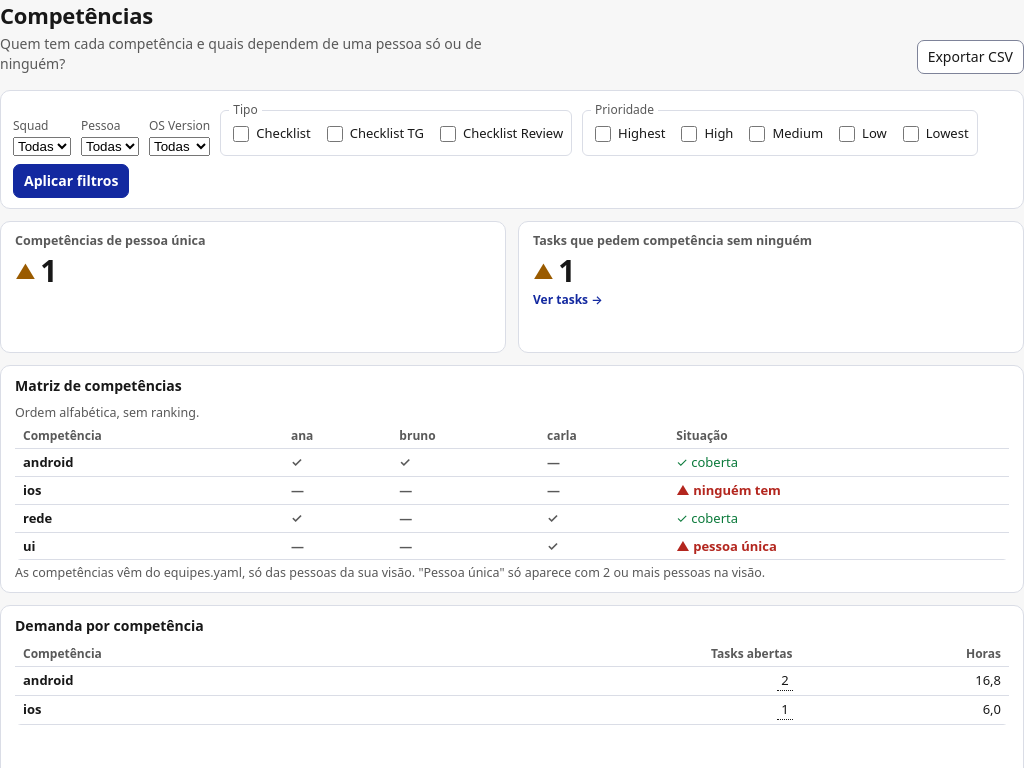
Test case: tela Matriz de competências › kpiSemNinguemAbreAGaveta
Expected: the heading "Competências de pessoa única" is shown, [15,232,206,249]
Click the button named "Tasks que pedem competência sem ninguém" at (561, 300), box [533,254,1009,309]
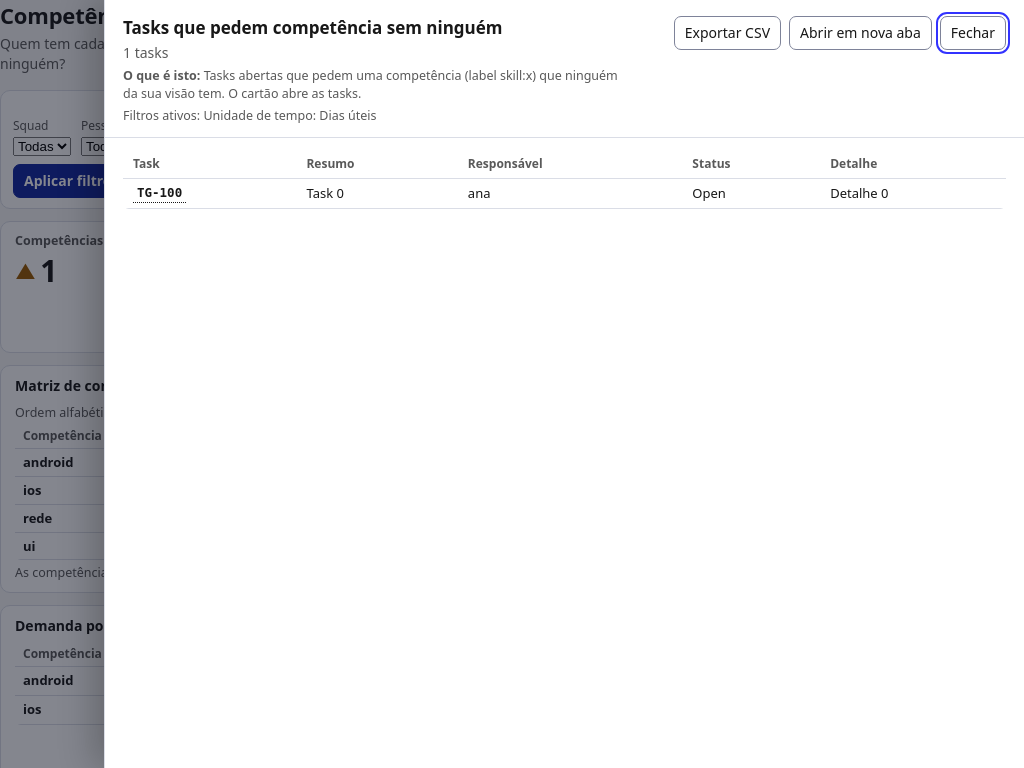
Result: the dialog is shown
